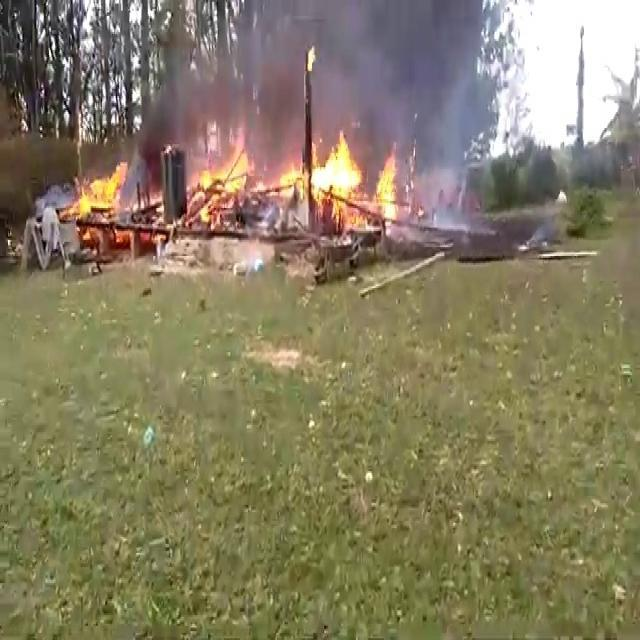Fire: (202, 122, 402, 210), (72, 152, 132, 206)
Smoke: (202, 0, 504, 159)
